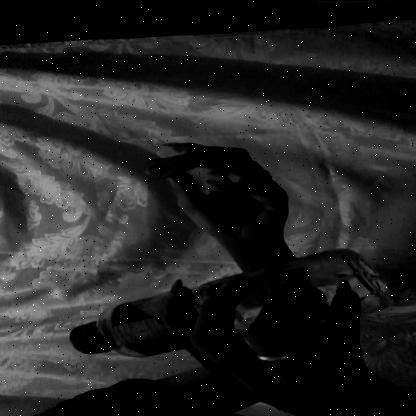Plastic Bottle: (62, 245, 414, 358)
